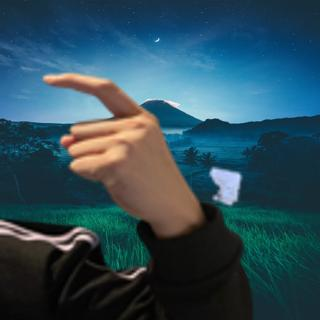WHY: (34, 66, 195, 227)
